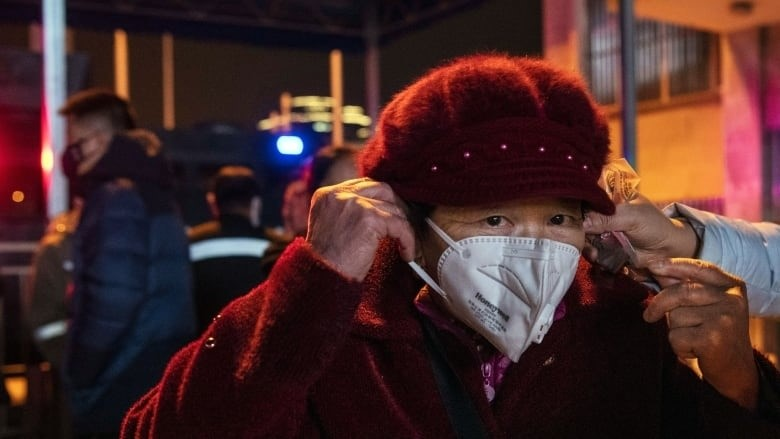face_with_mask: (391, 56, 613, 367), (61, 89, 138, 174)
